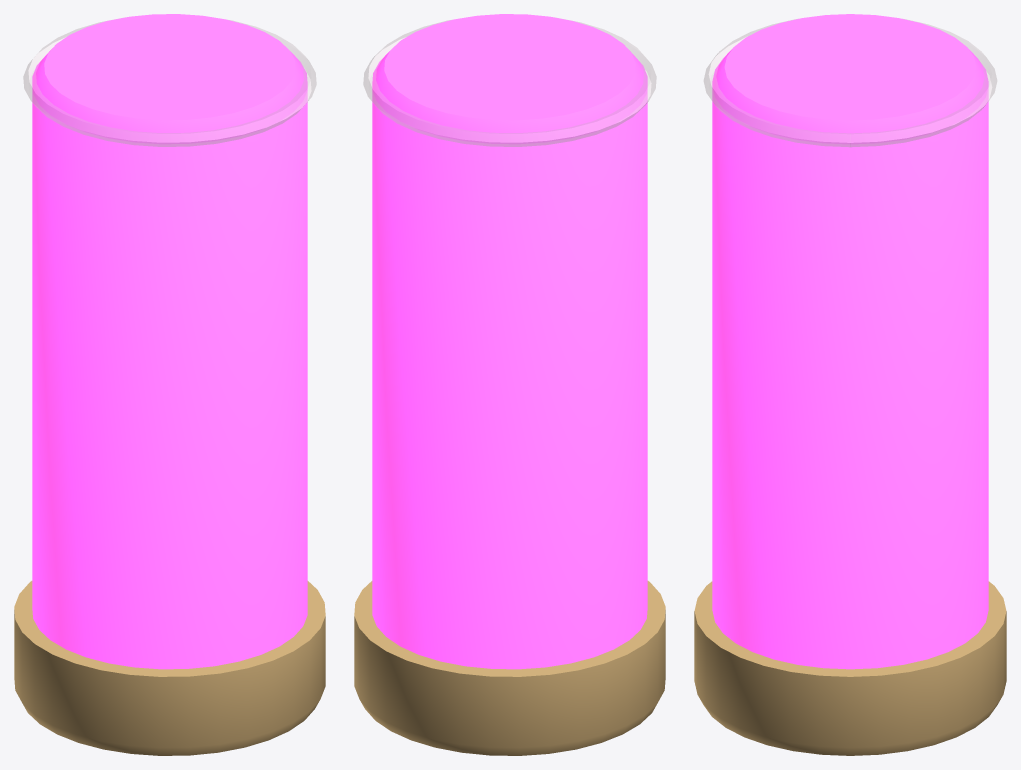
File: JAC_18_Luminaria_Mesa.glb
The picture shows the model from 3 angles, left to right: view 1: azimuth 30°, elevation 25°; view 2: azimuth 150°, elevation 25°; view 3: azimuth 270°, elevation 25°; orthographic projection.
Parts seen in each view (by area): view 1: JAC_18_Luminaria_Mesa; view 2: JAC_18_Luminaria_Mesa; view 3: JAC_18_Luminaria_Mesa.
Part boxes in pixels (x1,y1,x2,y2): JAC_18_Luminaria_Mesa: (14,14,325,755); JAC_18_Luminaria_Mesa: (354,14,665,755); JAC_18_Luminaria_Mesa: (694,14,1006,755).
Bounding box in the file's own units: 0.104 × 0.23 × 0.104.
